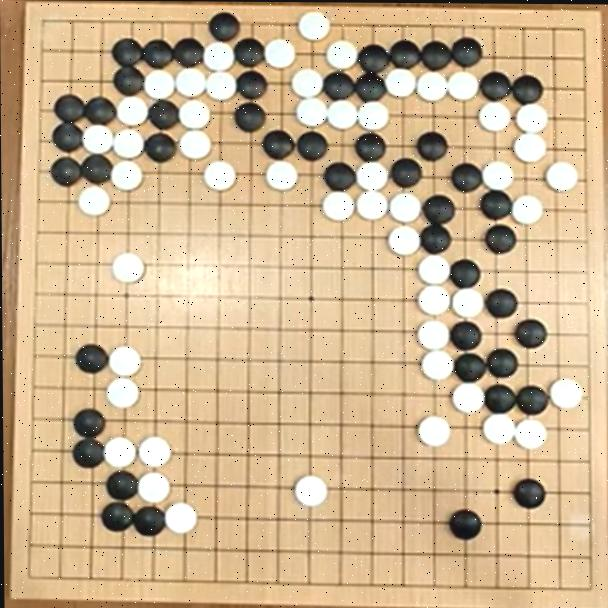corners: (27, 0, 72, 52), (12, 550, 56, 596), (566, 561, 608, 608), (563, 9, 599, 53)
